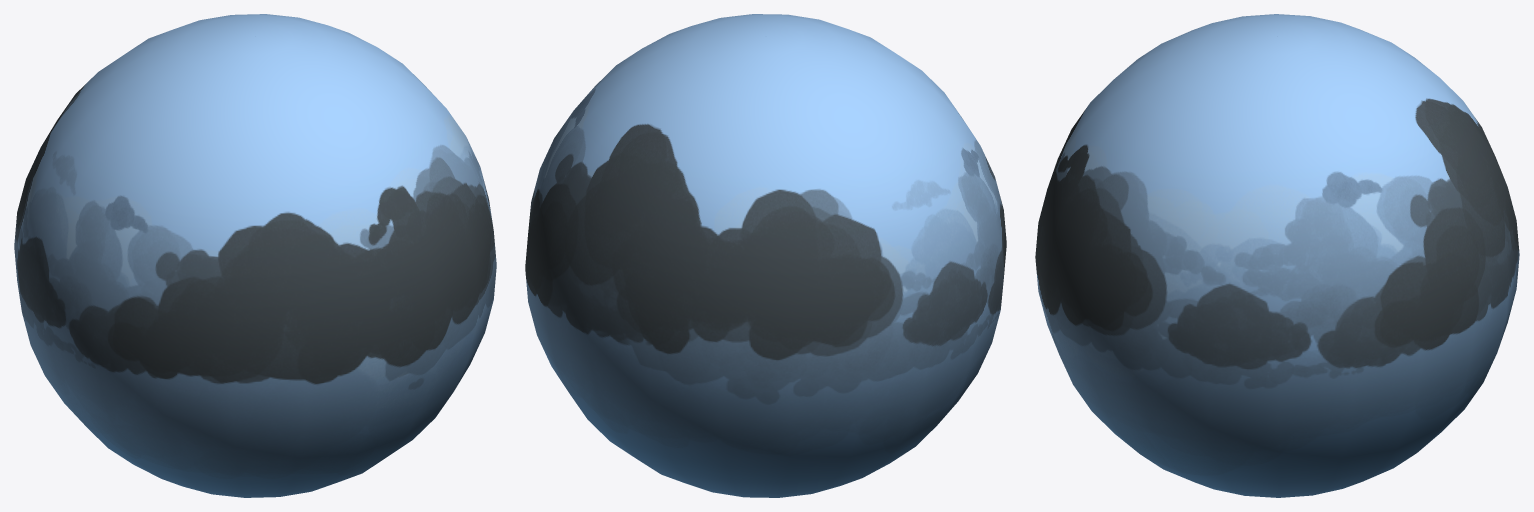
File: skydome7.fbx
The picture shows the model from 3 angles, left to right: view 1: azimuth 30°, elevation 25°; view 2: azimuth 150°, elevation 25°; view 3: azimuth 270°, elevation 25°; orthographic projection.
Parts seen in each view (by area): view 1: skydome6; view 2: skydome6; view 3: skydome6.
Boxes of the visible parts, x1,y1,x2,y2 form: skydome6: (14,14,496,497); skydome6: (525,14,1006,497); skydome6: (1035,14,1519,497).
Size of the model in its own units: 3.88 by 3.88 by 3.88.
